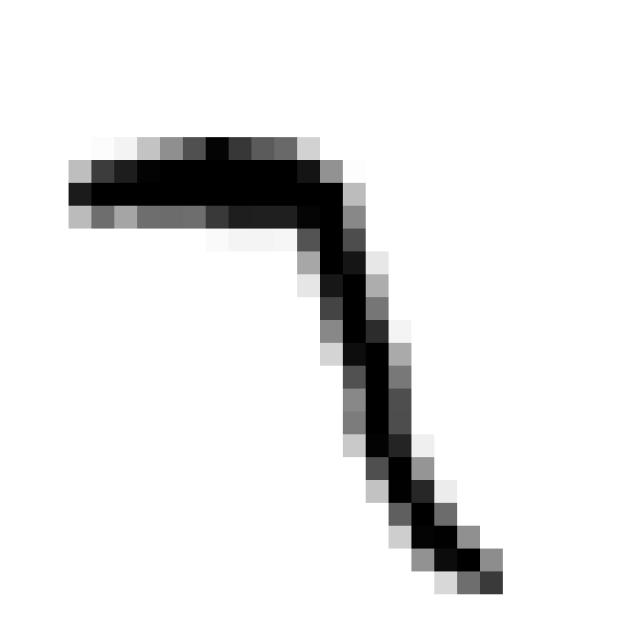6 -six-: (53, 116, 519, 612)
